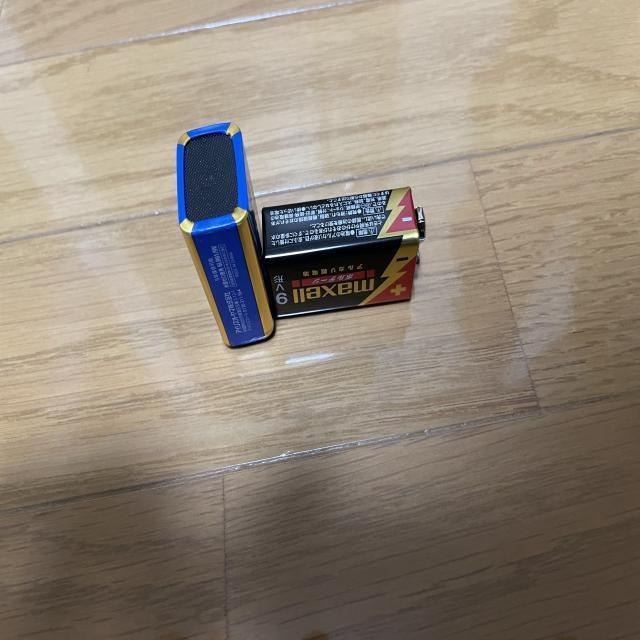9V: (174, 121, 279, 350), (262, 185, 427, 319)
